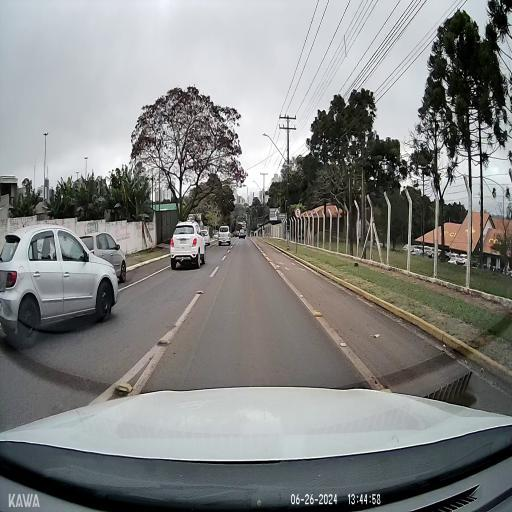R-6a: (295, 208, 300, 218)
